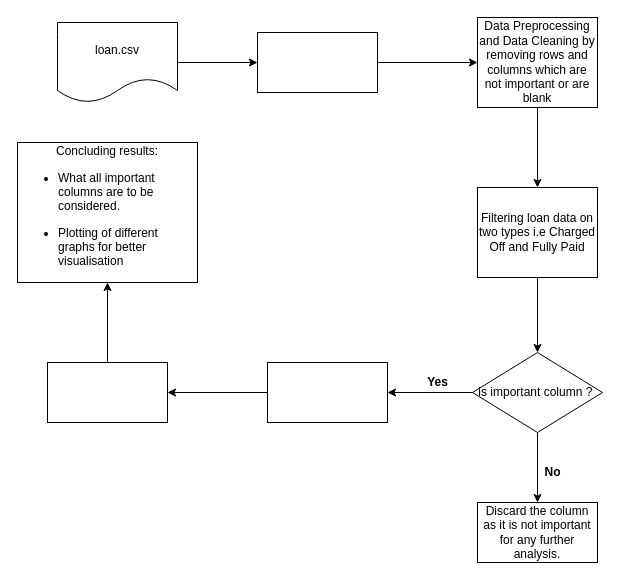
The diagram is 620 pixels wide and 580 high, and some of its shapes have lost their labels. Here are the shapes that lost their labels. From the top down, the centre of each, then its label:
[317,62]: Reading data from pandas
[107,392]: Perform Bivariate Analysis on multiple columns.
[327,392]: Perform Univariate Analysis on single column
